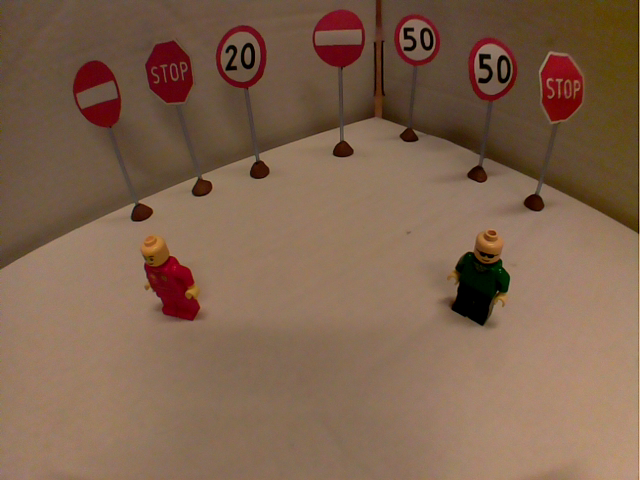Ograniczenie 20: (212, 22, 270, 91)
Ograniczenie 50: (464, 34, 524, 106), (390, 12, 444, 71)
Postac LEGO: (442, 223, 519, 334), (138, 230, 207, 325)
Stop: (534, 47, 590, 130), (140, 36, 198, 111)
Zakaz: (70, 57, 126, 132), (309, 6, 369, 70)
